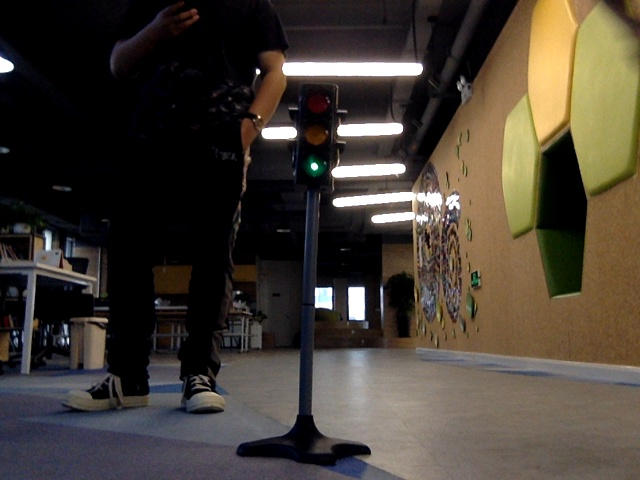green: (302, 88, 328, 182)
